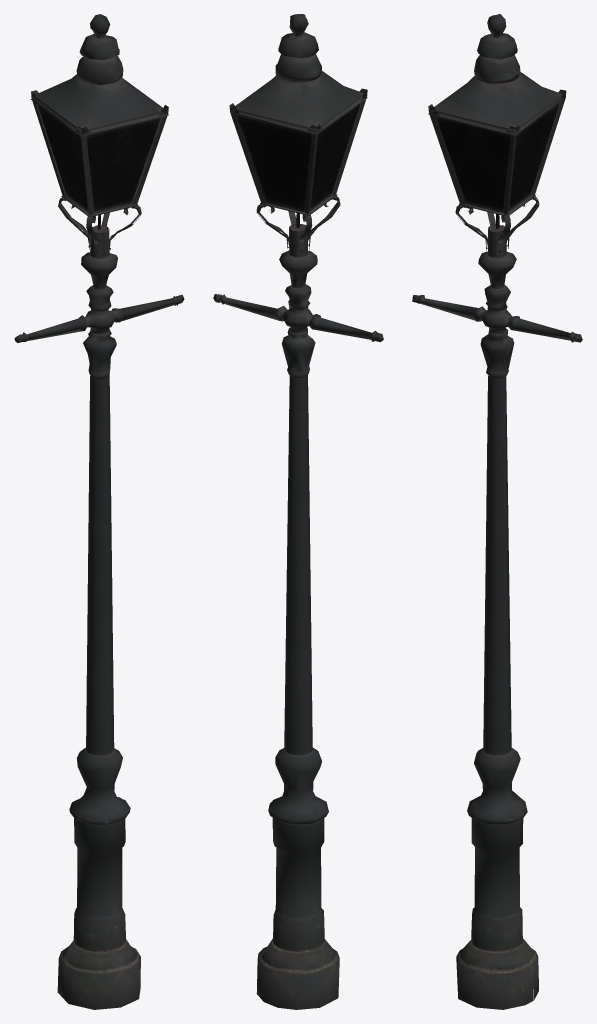
File: street_lamp.glb
The picture shows the model from 3 angles, left to right: view 1: azimuth 30°, elevation 25°; view 2: azimuth 150°, elevation 25°; view 3: azimuth 330°, elevation 25°; orthographic projection.
Parts seen in each view (by area): view 1: street_lamp_01; view 2: street_lamp_01; view 3: street_lamp_01.
Boxes of the visible parts, left/top/right/bottom form: street_lamp_01: left=14, top=14, right=184, bottom=1009; street_lamp_01: left=213, top=14, right=383, bottom=1009; street_lamp_01: left=412, top=14, right=582, bottom=1009.
Size of the model in its own units: 0.7044 by 3.87 by 0.3656.
2 materials, 2 textured.
